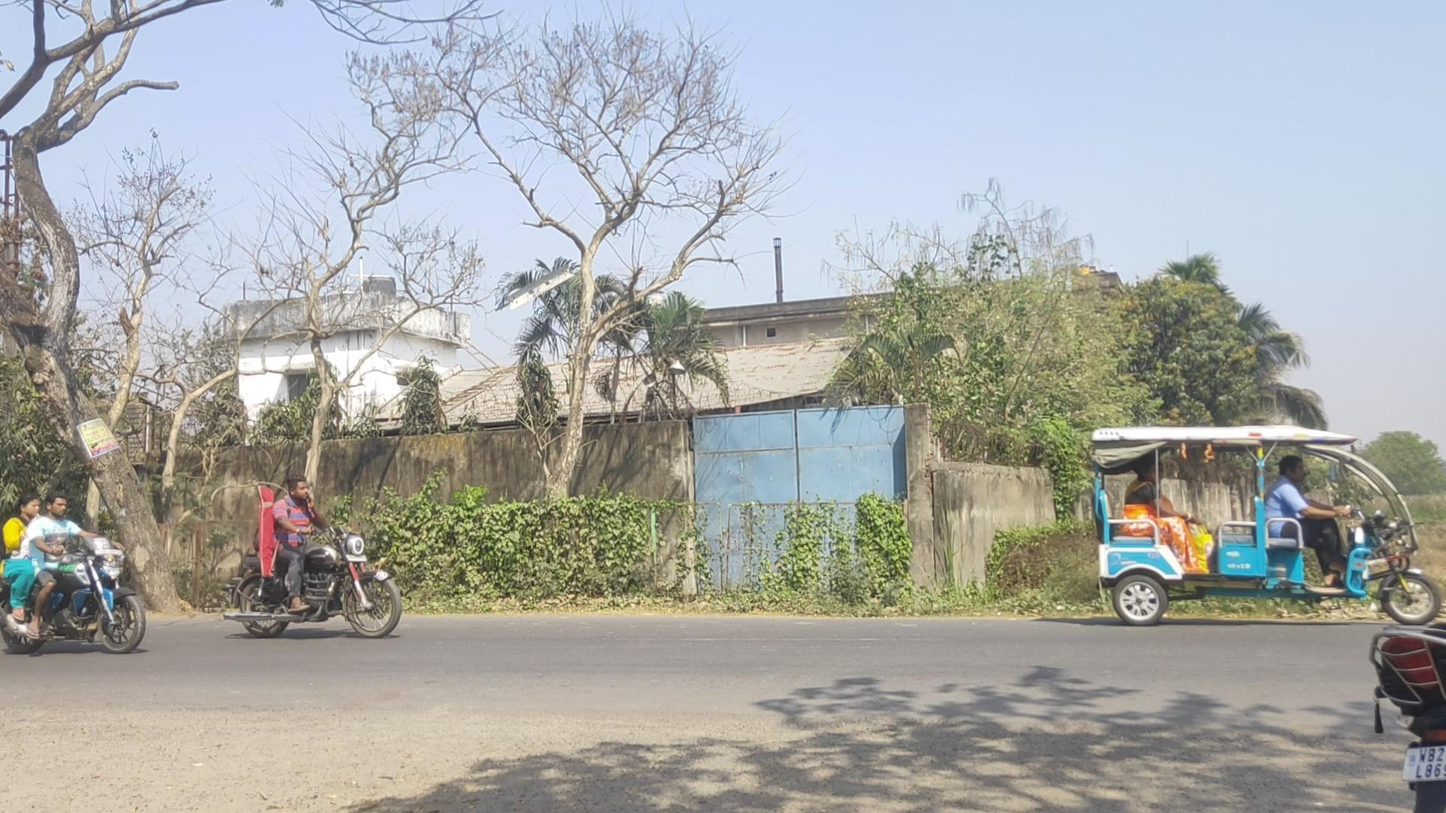Auto: (1090, 425, 1446, 629)
bike: (223, 475, 404, 639), (1, 492, 146, 654)
